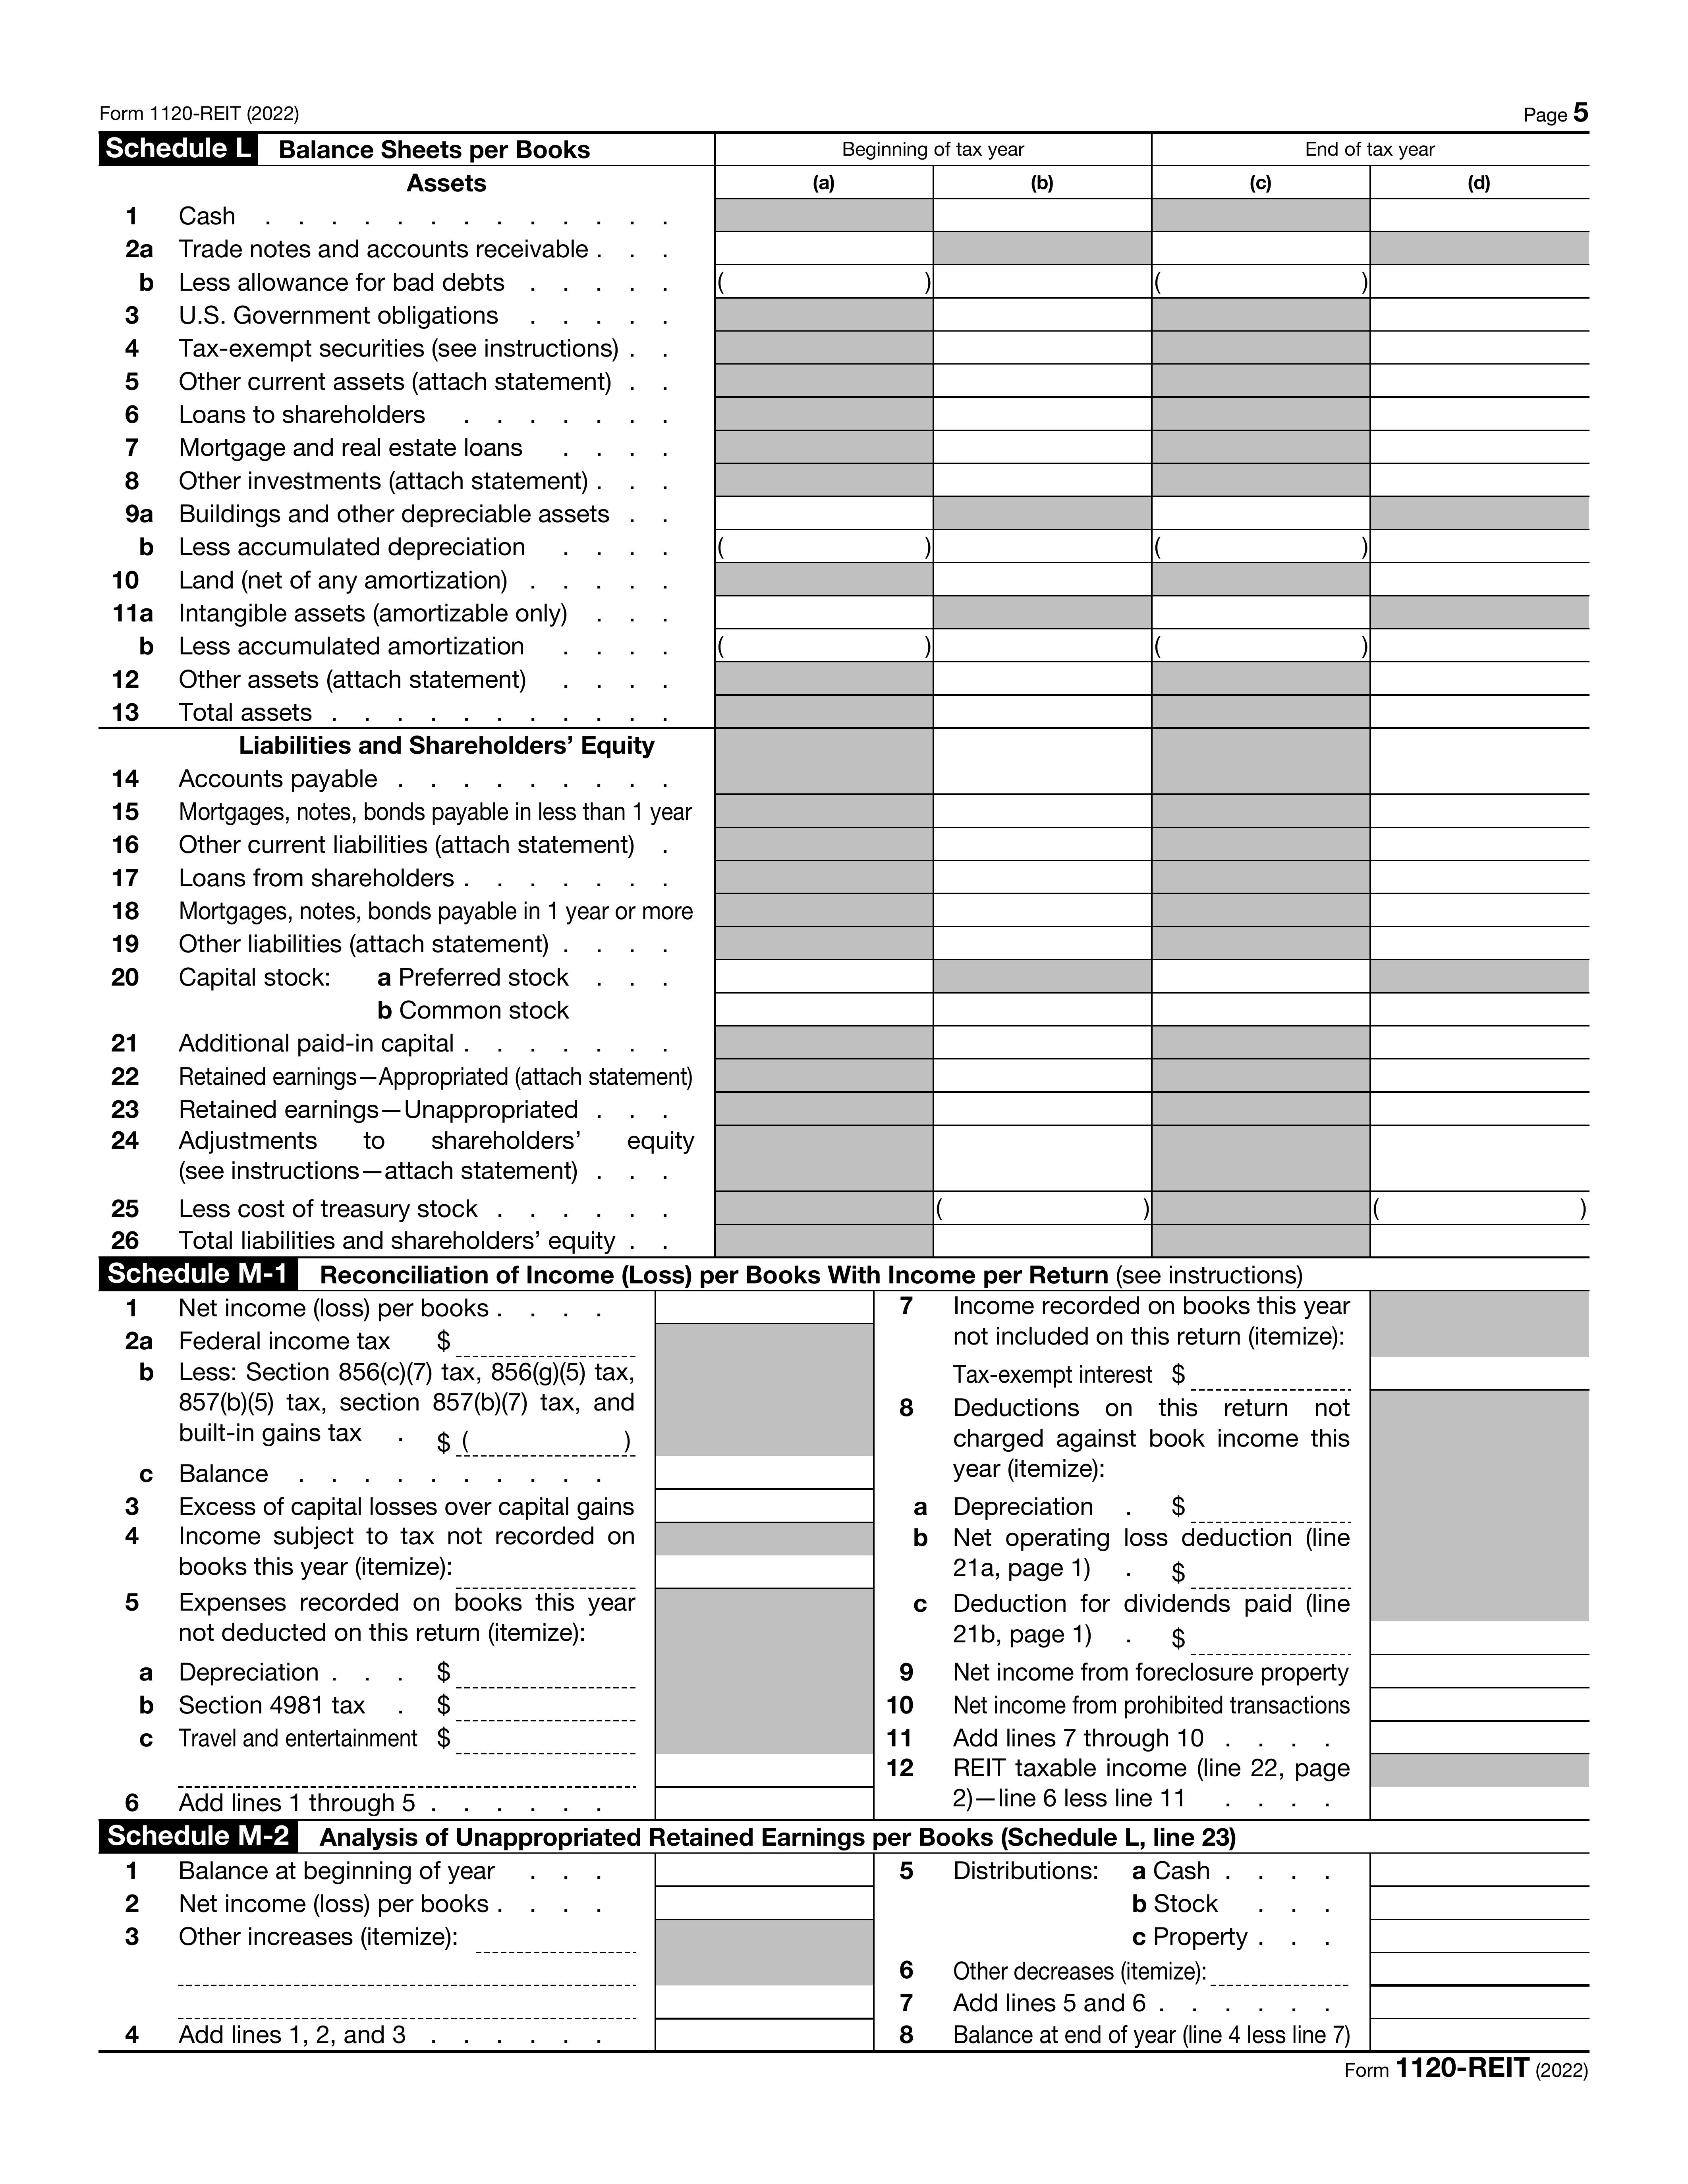table: (98, 128, 1628, 1257), (98, 1296, 887, 1822), (885, 1292, 1606, 1826), (92, 1858, 879, 2062), (883, 1854, 1612, 2058)
